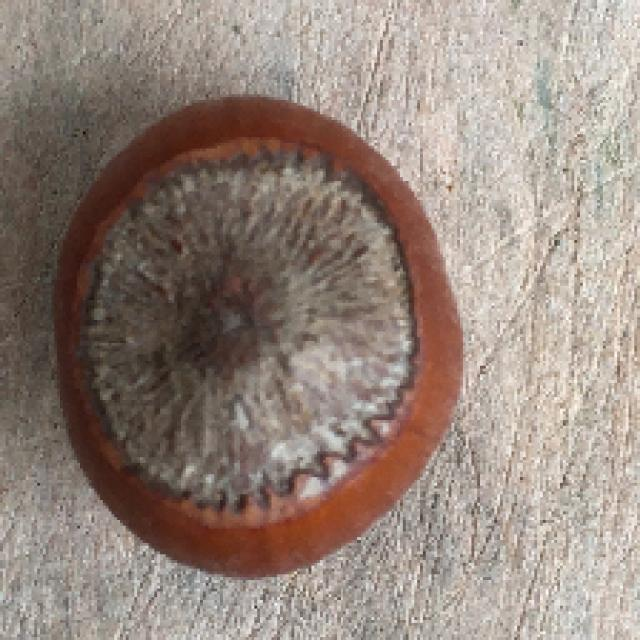hazelnut: (52, 83, 475, 586)
